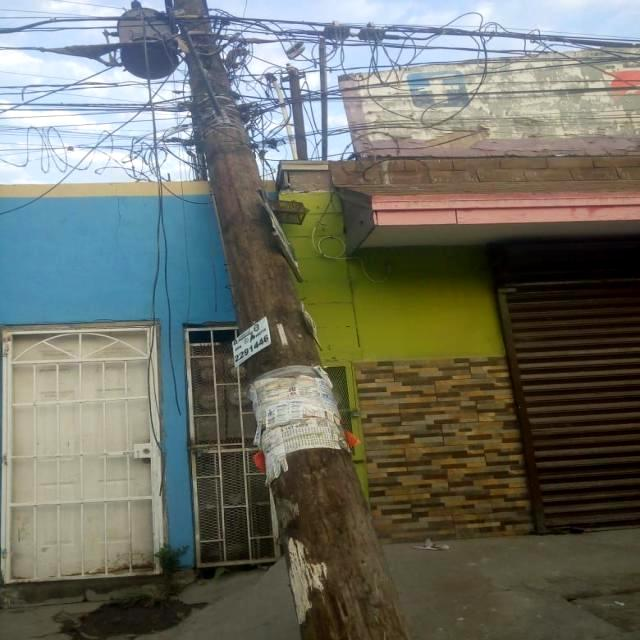Broken Pole: (118, 1, 410, 638)
